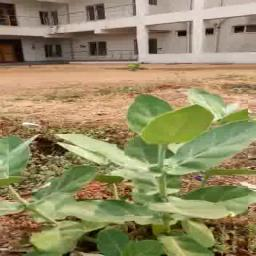Calotropis: (136, 95, 250, 254), (9, 134, 126, 252)
